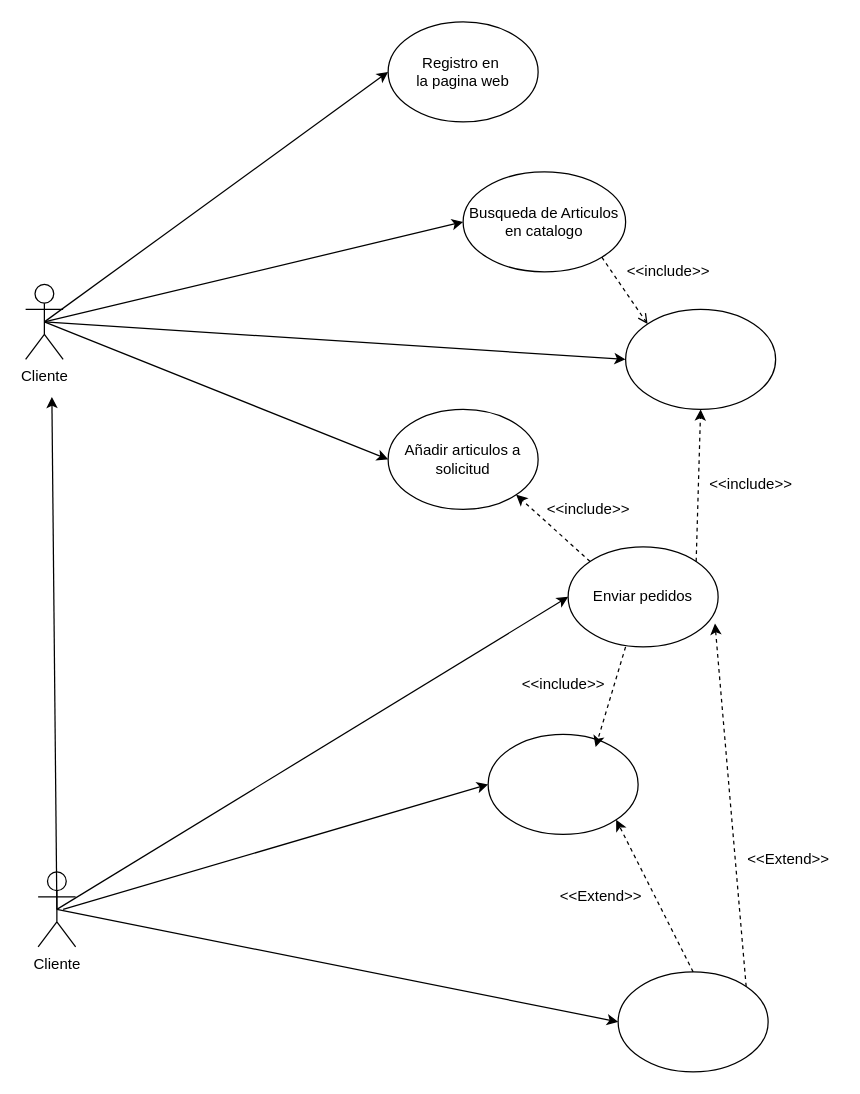
Some shapes in this 860 by 1094 pixel diagram are drawn without their labels. The box of each missing label's shape, as (x1, y1, x2, y2) in pixels:
Consultar catalogo: (624, 308, 776, 409)
Consultar pedidos: (487, 733, 638, 834)
Login en el sistema: (617, 971, 768, 1072)
